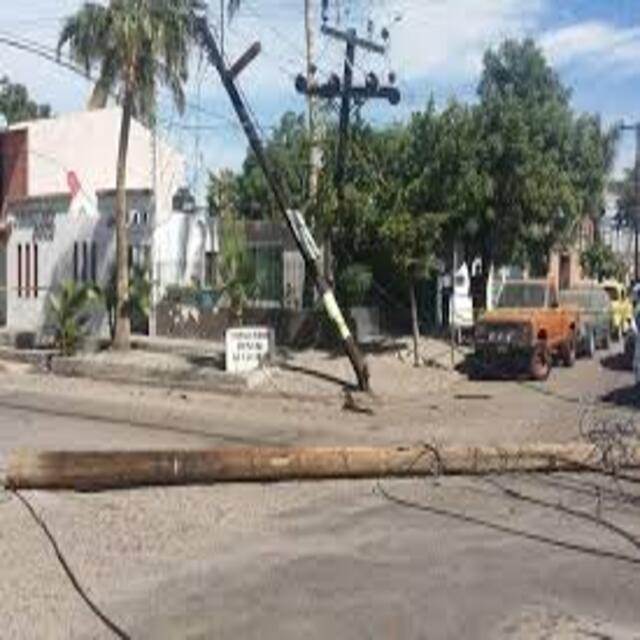Inclined Pole: (188, 17, 377, 382), (2, 435, 640, 492)
